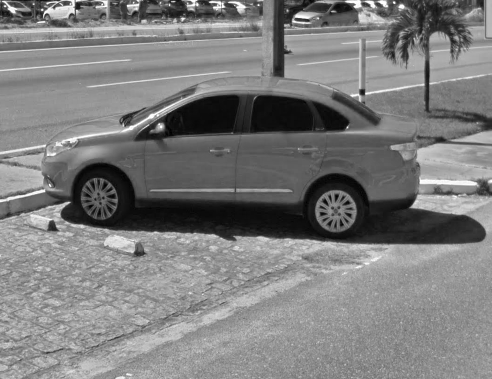car: (39, 73, 424, 242)
